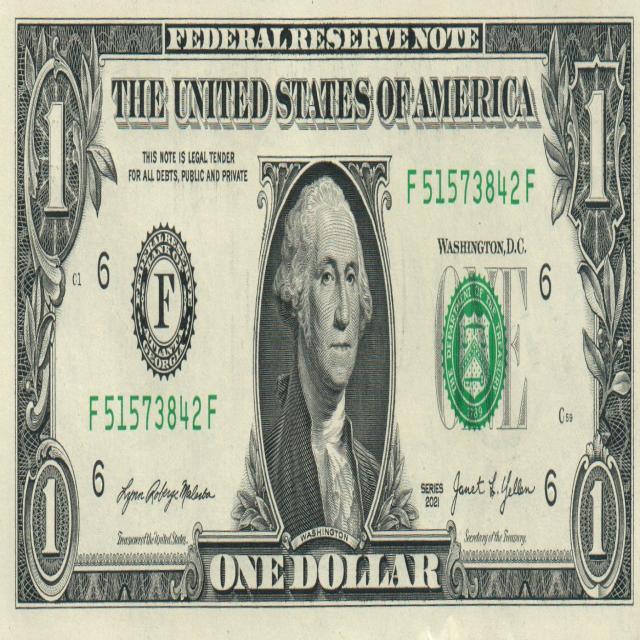SerialNumber: (90, 395, 216, 431), (407, 169, 534, 204)
